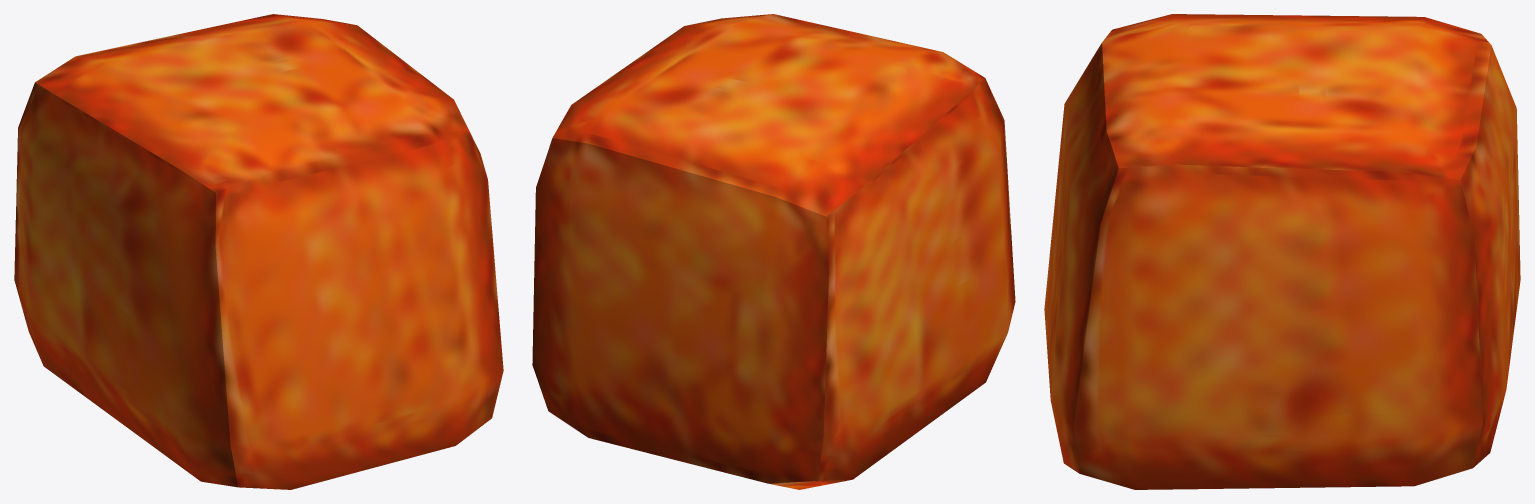
Rendered from crouton.fbx.
The picture shows the model from 3 angles, left to right: view 1: azimuth 30°, elevation 25°; view 2: azimuth 150°, elevation 25°; view 3: azimuth 270°, elevation 25°; orthographic projection. The views are drawn at different scales.
Visible parts, largest first — view 1: crouton; view 2: crouton; view 3: crouton.
Boxes of the visible parts, x1,y1,x2,y2 form: crouton: (14,14,503,489); crouton: (532,14,1015,489); crouton: (1044,14,1520,489).
Bounding box in the file's own units: 1.04 × 0.9805 × 1.17.
